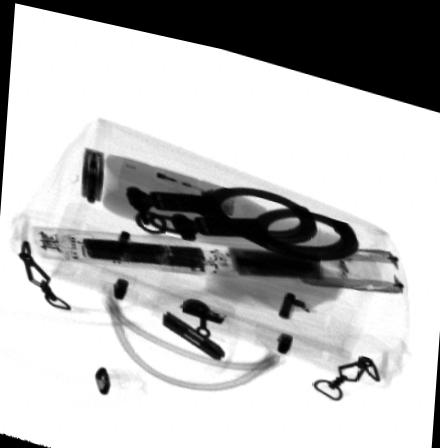Baton: (34, 221, 404, 276)
HandCuffs: (127, 172, 361, 246)
Lighter: (117, 150, 235, 206)
